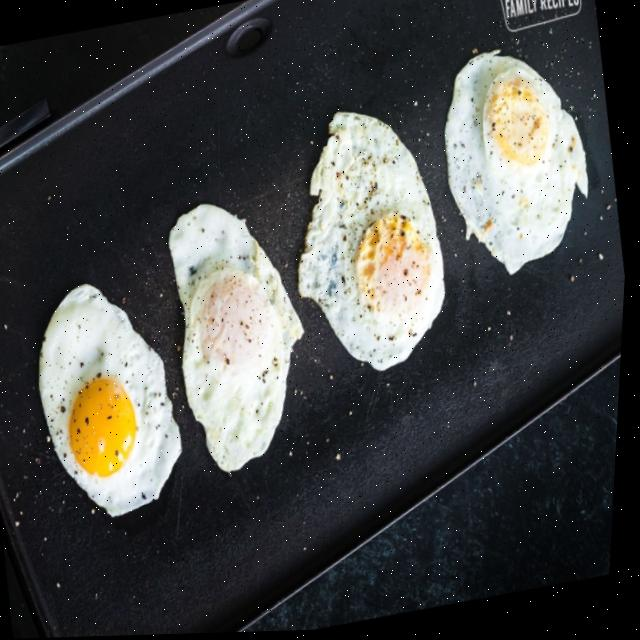Egg: (302, 115, 448, 373), (172, 206, 307, 474), (43, 284, 186, 517), (447, 55, 590, 278)
